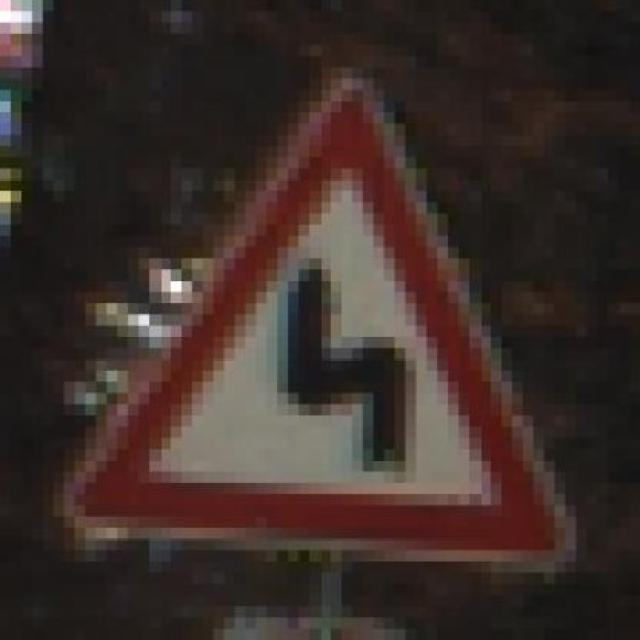Left Zig Zag Traffic: (64, 55, 587, 596)
